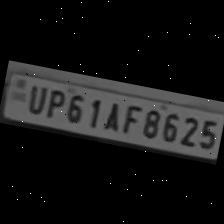1: (82, 92, 106, 128)
2: (176, 112, 200, 148)
5: (194, 114, 220, 151)
6: (60, 88, 88, 125), (158, 107, 182, 143)
8: (137, 104, 163, 140)
A: (96, 96, 124, 132)
F: (118, 99, 142, 136)
P: (40, 84, 66, 120)
U: (21, 79, 48, 115)
